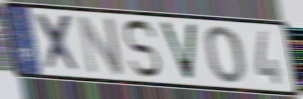4: (255, 30, 283, 86)
N: (76, 13, 126, 77)
O: (203, 24, 247, 85)
S: (122, 18, 163, 80)
V: (157, 19, 199, 84)
X: (33, 11, 84, 76)
